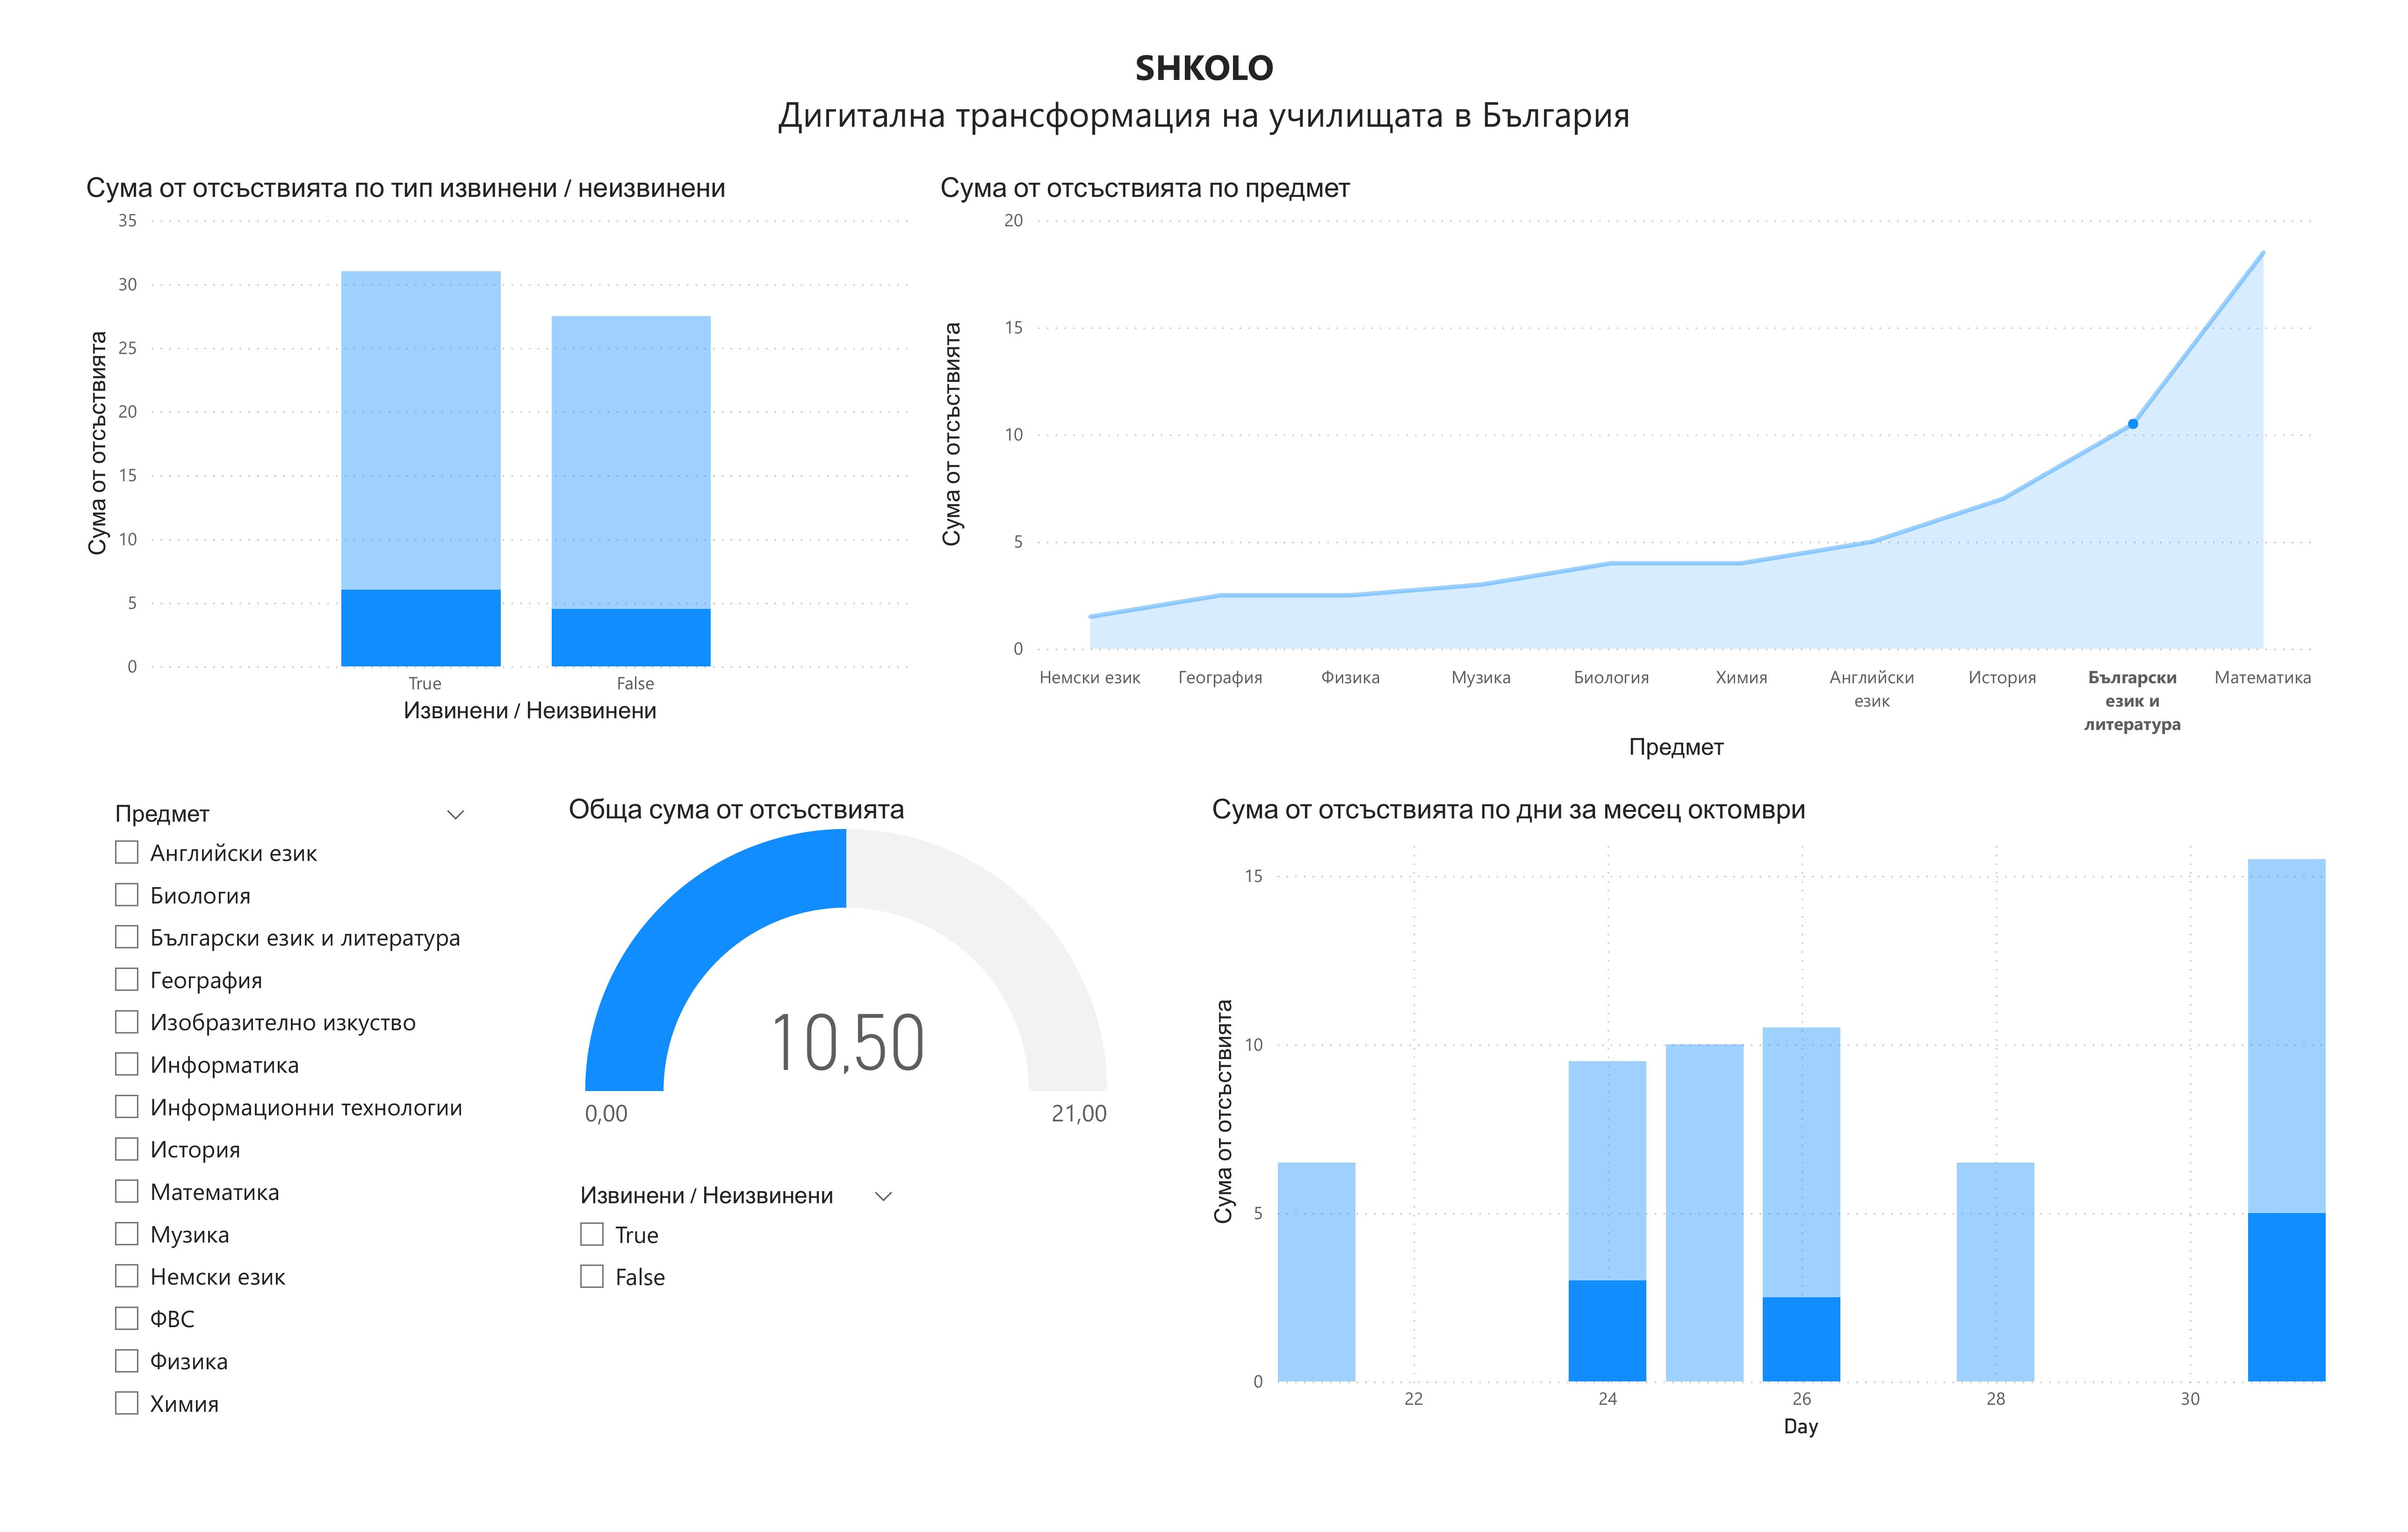

The page's visual inventory and layout, read from the dashboard file:
{"tool":"powerbi","page":{"name":"Absences","canvas":[1600,1000],"ordinal":1},"visuals":[{"type":"lineStackedColumnComboChart","title":"Сума от отсъствията по тип извинени / неизвинени","fields":{"Category":["ABSENCE.IS_EXCUSED"],"Y":["Sum(ABSENCE.ABSENCE_AMOUNT)"]},"box":[30.2,93.8,572.9,381.9],"z":0},{"type":"textbox","box":[489.1,0,623.1,78.7],"z":1000},{"type":"lineClusteredColumnComboChart","title":"Сума от отсъствията по дни за месец октомври","fields":{"Y":["Sum(ABSENCE.ABSENCE_AMOUNT)"],"Category":["LESSON.DATE.Variation.Date Hierarchy.Day"]},"box":[800.7,519.3,772.2,445.6],"z":2000},{"type":"slicer","fields":{"Values":["ABSENCE.IS_EXCUSED"]},"box":[360.1,780.6,239.5,93.8],"z":3000},{"type":"slicer","fields":{"Values":["SUBJECT.SUBJECT_NAME"]},"box":[42.2,519.8,265,438.8],"z":4000},{"type":"gauge","fields":{"Y":["Sum(ABSENCE.ABSENCE_AMOUNT)"]},"box":[360.1,519.3,390.3,239.5],"z":5000},{"type":"stackedAreaChart","title":"Сума от отсъствията по предмет","fields":{"Y":["Sum(ABSENCE.ABSENCE_AMOUNT)"],"Category":["SUBJECT.SUBJECT_NAME"]},"box":[614.7,93.8,958.1,407],"z":6000}]}

Visuals, with their boxes on the page's 1600x1000 design canvas (x1, y1, x2, y2). These are canvas units, not pixel positions in the 2408x1532 screenshot, which may show the page scaled, cropped or inside an application window:
"Сума от отсъствията по тип извинени / неизвинени" lineStackedColumnComboChart: locate(30, 94, 603, 476)
textbox: locate(489, 0, 1112, 79)
"Сума от отсъствията по дни за месец октомври" lineClusteredColumnComboChart: locate(801, 519, 1573, 965)
slicer - ABSENCE.IS_EXCUSED: locate(360, 781, 600, 874)
slicer - SUBJECT.SUBJECT_NAME: locate(42, 520, 307, 959)
gauge - Sum(ABSENCE.ABSENCE_AMOUNT): locate(360, 519, 750, 759)
"Сума от отсъствията по предмет" stackedAreaChart: locate(615, 94, 1573, 501)
